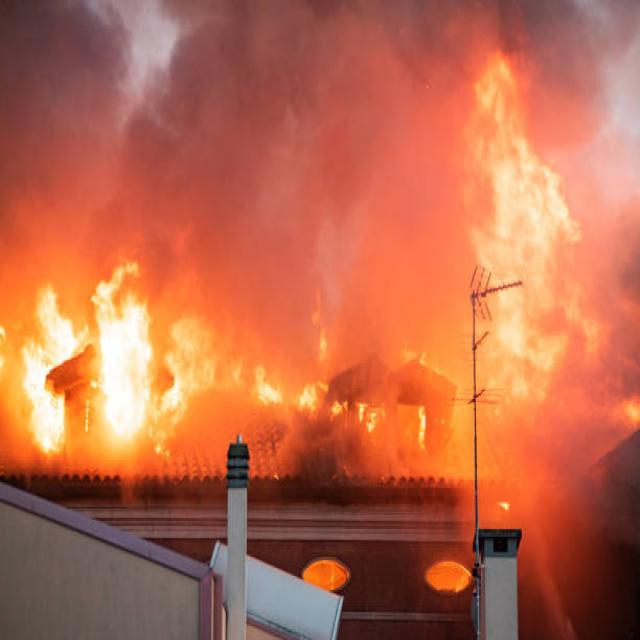Fire: (0, 253, 325, 455), (463, 49, 582, 407)
Smoke: (113, 0, 630, 419), (0, 0, 122, 294)
